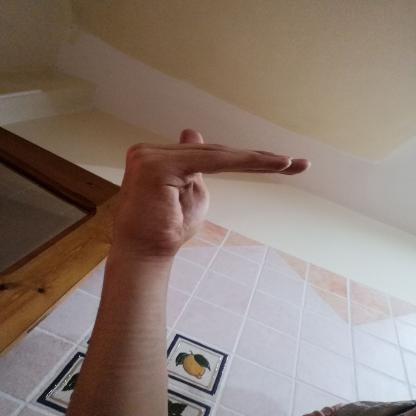KHAA: (95, 120, 330, 266)
